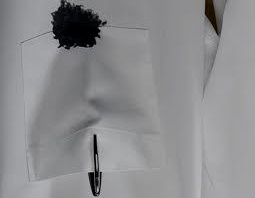ink: (52, 7, 100, 47)
